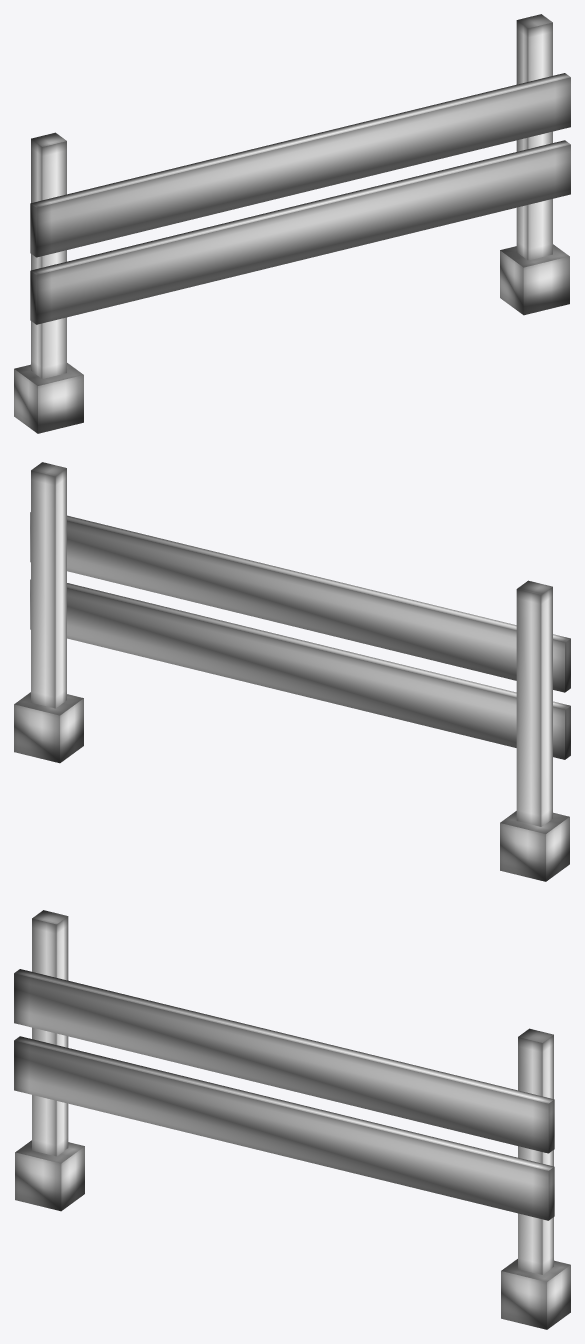
The model's file is Barrier-02.fbx.
The picture shows the model from 3 angles, top to bottom: view 1: azimuth 30°, elevation 25°; view 2: azimuth 150°, elevation 25°; view 3: azimuth 330°, elevation 25°; orthographic projection.
Visible parts, largest first — view 1: Barrier-06; view 2: Barrier-06; view 3: Barrier-06.
Part boxes in pixels (bbox=[...]): Barrier-06: bbox=[14, 14, 570, 433]; Barrier-06: bbox=[14, 462, 570, 881]; Barrier-06: bbox=[14, 910, 570, 1329].
Size of the model in its own units: 1 by 0.5 by 0.0773.
